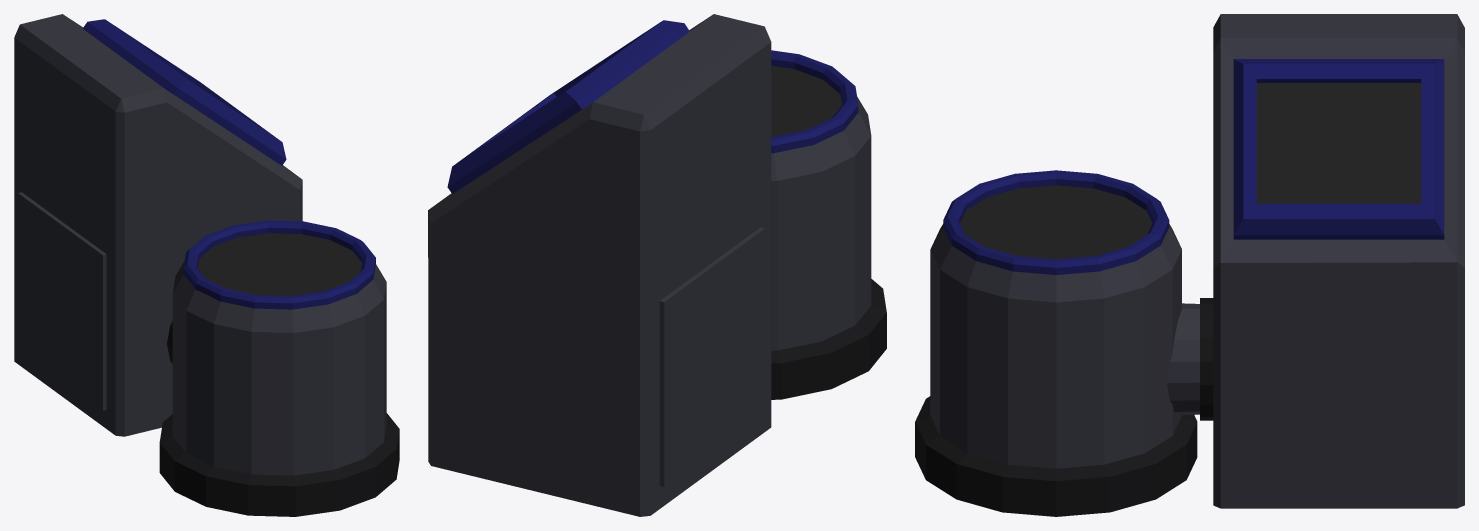
Rendered from bank1.glb.
The picture shows the model from 3 angles, left to right: view 1: azimuth 30°, elevation 25°; view 2: azimuth 150°, elevation 25°; view 3: azimuth 270°, elevation 25°; orthographic projection. The views are drawn at different scales.
Parts seen in each view (by area): view 1: Panel; view 2: Panel; view 3: Panel.
Part boxes in pixels (<box>): Panel: <box>14,14,399,516</box>; Panel: <box>428,14,886,516</box>; Panel: <box>915,14,1464,516</box>.
Bounding box in the file's own units: 0.5608 × 0.8624 × 1.09.
